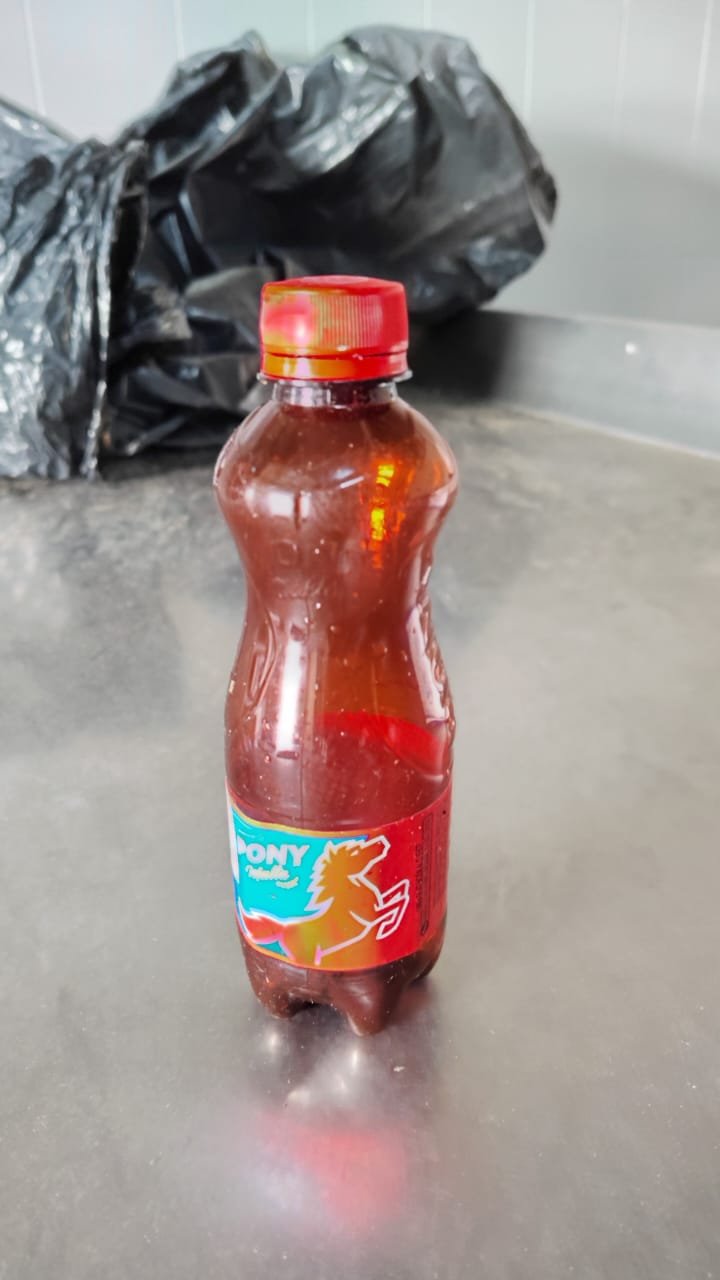Plastico: (212, 275, 455, 1035)
